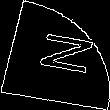N_W: (21, 30, 89, 80)
